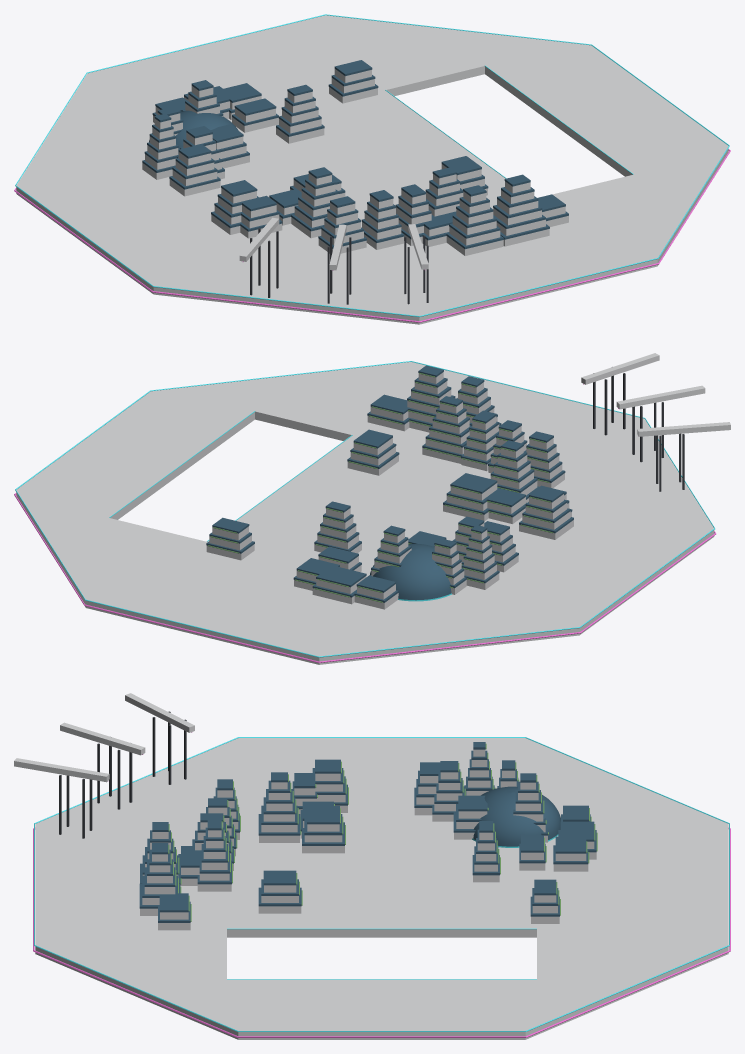
File: SM_OxagonPlatform.fbx
3 views of the same model, one above another, from view 1: azimuth 30°, elevation 25°; view 2: azimuth 150°, elevation 25°; view 3: azimuth 270°, elevation 25° (orthographic). The views are drawn at different scales.
Visible parts, largest first — view 1: SM_OxagonPlatform; view 2: SM_OxagonPlatform; view 3: SM_OxagonPlatform.
Boxes of the visible parts, box(x1,y1,x2,y2) form: SM_OxagonPlatform: box(14, 14, 730, 324); SM_OxagonPlatform: box(14, 353, 730, 664); SM_OxagonPlatform: box(14, 693, 730, 1039).
Bounding box in the file's own units: 27895 × 3140 × 28652.
